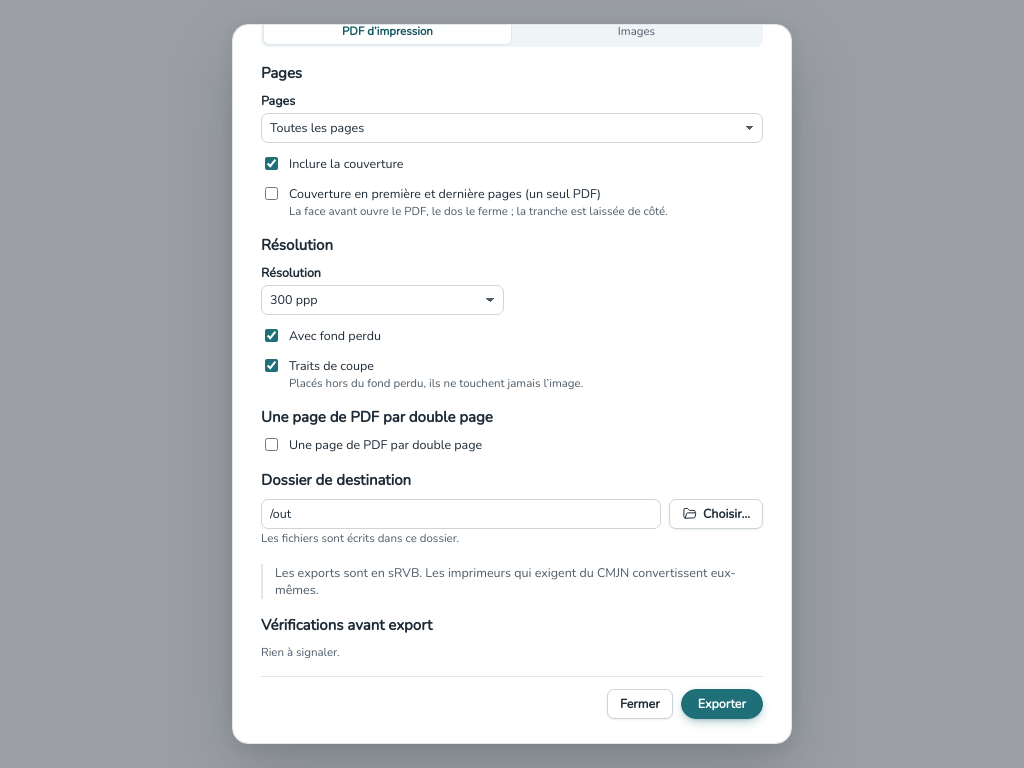
Scenario: ExportDialog start › shows an export that failed and lets the user try again
(page scrolled)
Expected: the text "Rien à signaler." is shown, [261,644,340,660]
Click the button "Exporter".
click(722, 704)  # box [681,689,763,719]
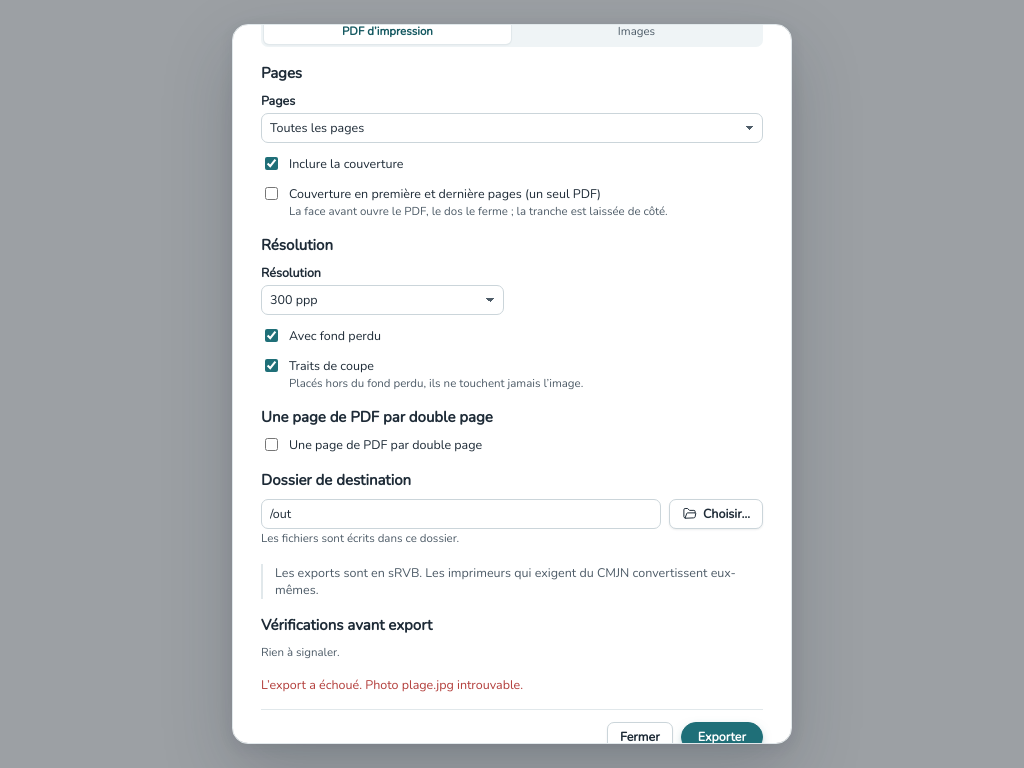
Expected: the button "Exporter" is enabled, [681,722,763,744]
Result: the text "L’export a échoué. Photo plage.jpg introuvable." is shown at [261,676,523,693]
